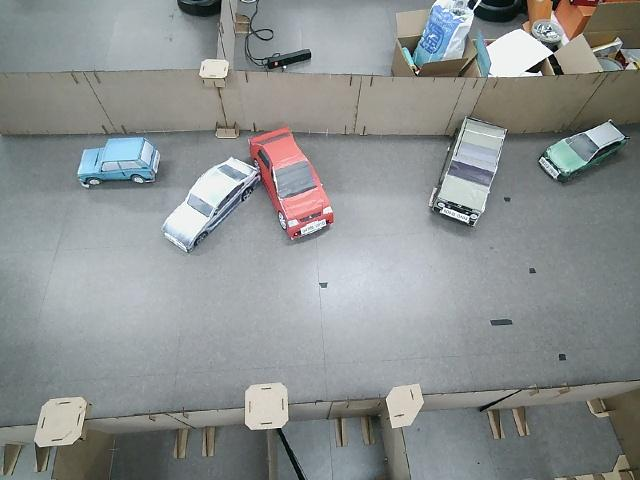car: (248, 126, 336, 241), (161, 155, 259, 251), (430, 115, 506, 229), (539, 119, 628, 183), (78, 137, 161, 186)
